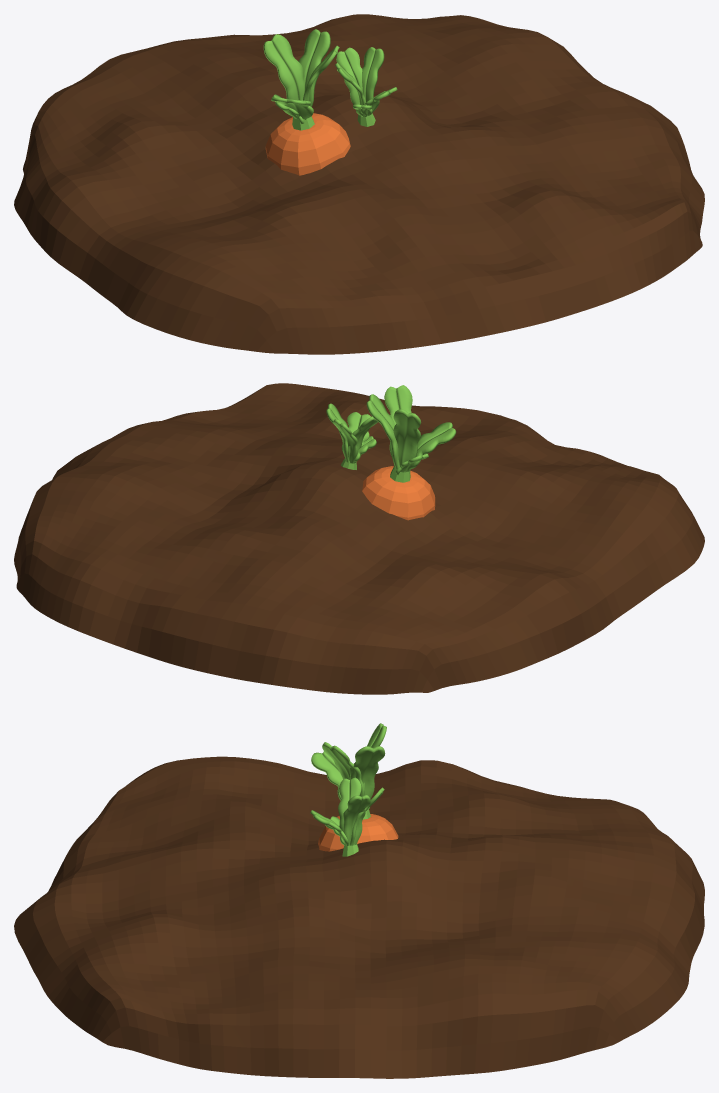
Rendered from Carrot_M.fbx.
3 renders of one model, top to bottom at view 1: azimuth 30°, elevation 25°; view 2: azimuth 150°, elevation 25°; view 3: azimuth 270°, elevation 25°, orthographic. The views are drawn at different scales.
Parts seen in each view (by area): view 1: Plane.018; view 2: Plane.018; view 3: Plane.018.
Boxes of the visible parts, x1,y1,x2,y2 form: Plane.018: (14,14,704,354); Plane.018: (14,383,704,694); Plane.018: (14,723,704,1078).
Size of the model in its own units: 128 by 37.06 by 127.
